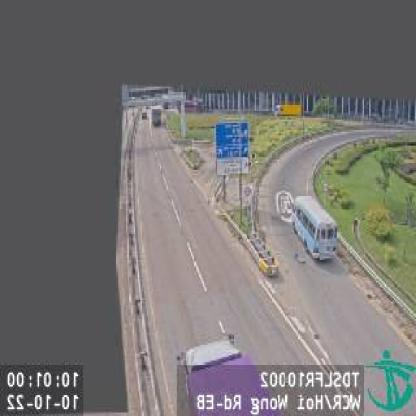Bus: (292, 195, 340, 261)
Car: (150, 104, 162, 128)
